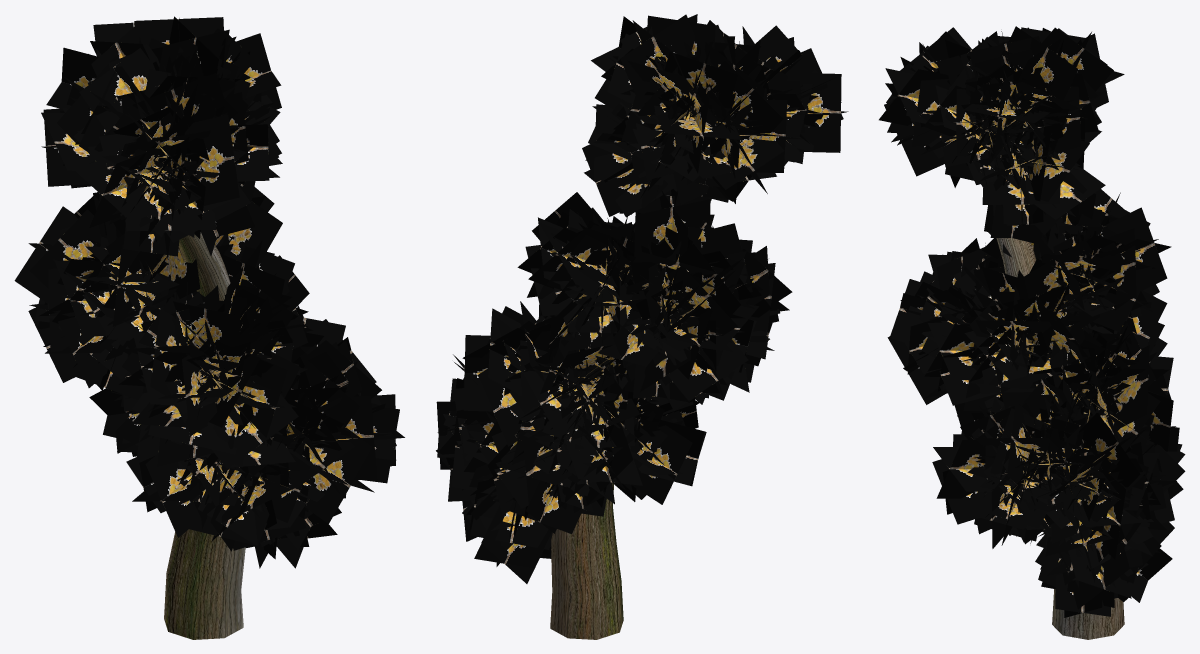
File: eztree-hophornbeam-understory-a.glb
3 views of the same model, side by side, from view 1: azimuth 30°, elevation 25°; view 2: azimuth 150°, elevation 25°; view 3: azimuth 270°, elevation 25° (orthographic). The views are drawn at different scales.
Visible parts, largest first — view 1: eztree-hophornbeam-understory-a; view 2: eztree-hophornbeam-understory-a; view 3: eztree-hophornbeam-understory-a.
Part boxes in pixels (x1,y1,x2,y2): eztree-hophornbeam-understory-a: (14, 16, 404, 639); eztree-hophornbeam-understory-a: (436, 14, 848, 639); eztree-hophornbeam-understory-a: (879, 26, 1185, 639).
Size of the model in its own units: 15.03 by 25.98 by 12.69.
Materials: 2 (2 with a texture image).
